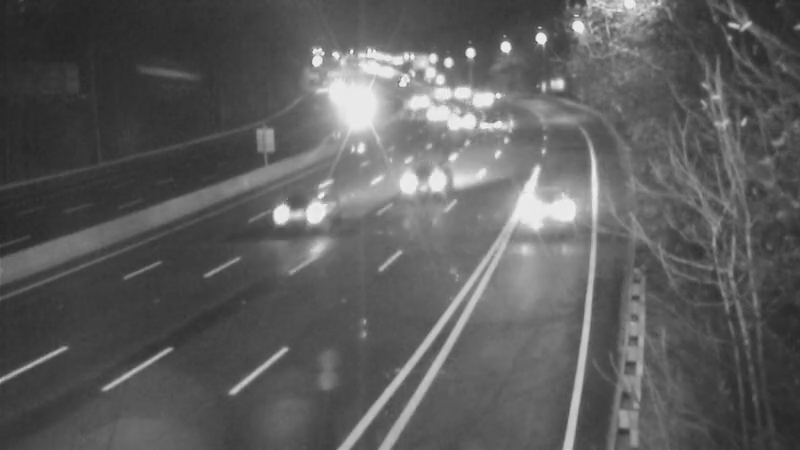vehicle: (381, 147, 461, 227), (249, 181, 329, 261), (507, 168, 587, 248), (417, 68, 467, 118), (458, 73, 508, 123), (391, 72, 441, 122), (409, 90, 459, 140), (433, 90, 483, 140), (462, 100, 512, 150), (330, 90, 380, 140)
